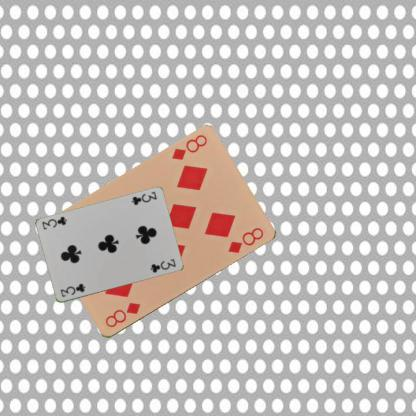3c: (129, 189, 158, 207), (58, 281, 86, 298)
8d: (102, 300, 142, 330), (169, 132, 209, 162)
